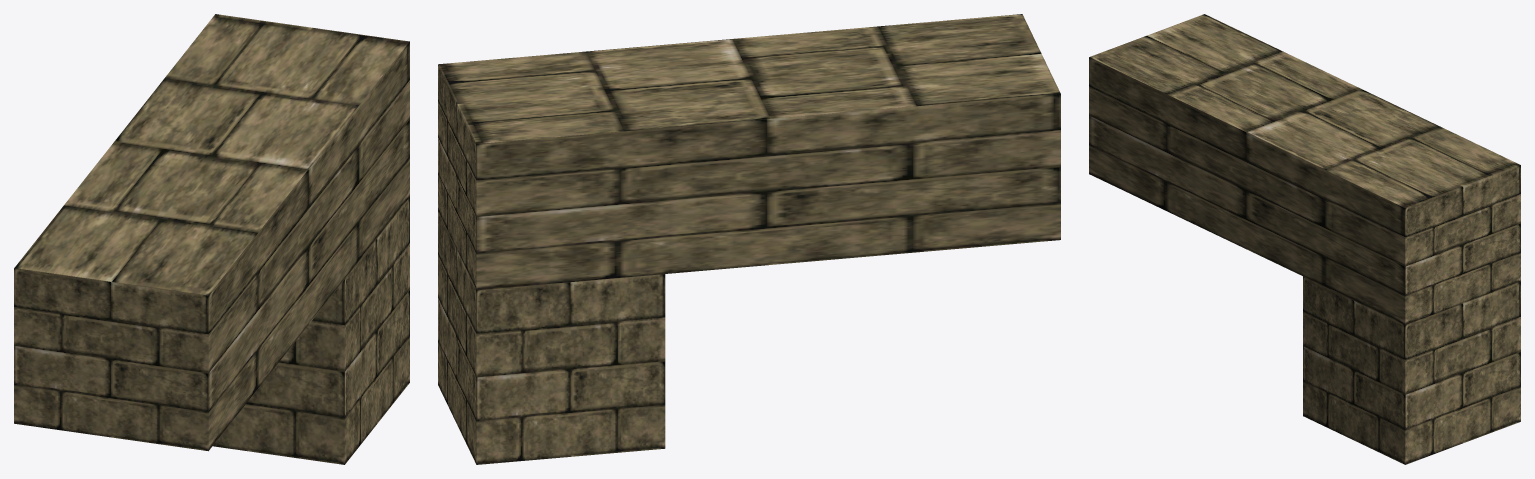
File: OVERHILL_A_01_TROLL AREA_PUSHBLOCK 10.fbx
3 views of the same model, side by side, from view 1: azimuth 30°, elevation 25°; view 2: azimuth 150°, elevation 25°; view 3: azimuth 270°, elevation 25° (orthographic). The views are drawn at different scales.
Visible parts, largest first — view 1: OVERHILL_A_01_TROLL AREA_PUSHBLOCK 10; view 2: OVERHILL_A_01_TROLL AREA_PUSHBLOCK 10; view 3: OVERHILL_A_01_TROLL AREA_PUSHBLOCK 10.
Boxes of the visible parts, x1,y1,x2,y2 form: OVERHILL_A_01_TROLL AREA_PUSHBLOCK 10: (14, 14, 409, 464); OVERHILL_A_01_TROLL AREA_PUSHBLOCK 10: (438, 14, 1060, 464); OVERHILL_A_01_TROLL AREA_PUSHBLOCK 10: (1089, 14, 1520, 464).
Bounding box in the file's own units: 29799 × 18371 × 27991.
1 material, 1 textured.
